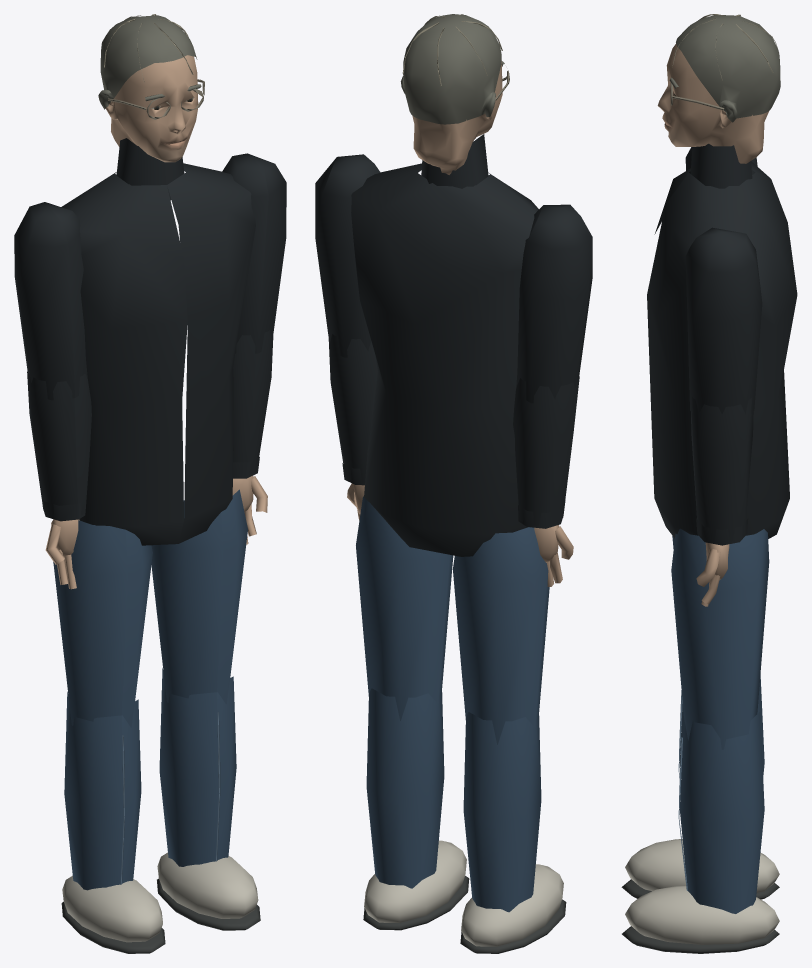
File: steve-jobs-lod.glb
The picture shows the model from 3 angles, left to right: view 1: azimuth 30°, elevation 25°; view 2: azimuth 150°, elevation 25°; view 3: azimuth 270°, elevation 25°; orthographic projection.
Visible parts, largest first — view 1: Torso, TrouserThigh (×2), TrouserCalf (×2), TailoredSleeve (×2), Shoe (×2), LeftForearm, AnatomicalFace, Head, RightForearm, Sole (×2), LeftHand, RightHand; view 2: Torso, TrouserThigh (×2), TrouserCalf (×2), TailoredSleeve (×2), Head, Shoe (×2), LeftForearm, RightForearm, AnatomicalFace, Sole (×2), LeftHand; view 3: Torso, TrouserThigh, TrouserCalf (×2), TailoredSleeve, Shoe (×2), Head, RightForearm, AnatomicalFace, Sole (×2), RightHand.
Part boxes in pixels (bbox=[...]): Torso: bbox=[61, 138, 255, 545]; TrouserThigh (×2): bbox=[53, 489, 247, 727]; TrouserCalf (×2): bbox=[64, 668, 236, 890]; TailoredSleeve (×2): bbox=[14, 153, 286, 400]; Shoe (×2): bbox=[62, 852, 258, 942]; LeftForearm: bbox=[27, 371, 91, 521]; AnatomicalFace: bbox=[105, 55, 198, 162]; Head: bbox=[98, 14, 204, 119]; RightForearm: bbox=[233, 330, 273, 478]; Sole (×2): bbox=[61, 878, 260, 953]; LeftHand: bbox=[45, 519, 79, 589]; RightHand: bbox=[232, 475, 267, 544]; Torso: bbox=[351, 134, 538, 556]; TrouserThigh (×2): bbox=[356, 496, 549, 744]; TrouserCalf (×2): bbox=[366, 688, 541, 912]; TailoredSleeve (×2): bbox=[315, 154, 592, 403]; Head: bbox=[400, 14, 509, 124]; Shoe (×2): bbox=[364, 840, 563, 946]; LeftForearm: bbox=[513, 376, 579, 528]; RightForearm: bbox=[328, 334, 377, 485]; AnatomicalFace: bbox=[412, 61, 502, 174]; Sole (×2): bbox=[363, 876, 566, 953]; LeftHand: bbox=[534, 525, 573, 586]; Torso: bbox=[647, 143, 797, 538]; TrouserThigh: bbox=[671, 528, 769, 749]; TrouserCalf (×2): bbox=[679, 674, 764, 913]; TailoredSleeve: bbox=[685, 227, 762, 414]; Shoe (×2): bbox=[625, 839, 779, 944]; Head: bbox=[669, 14, 780, 122]; RightForearm: bbox=[691, 396, 753, 545]; AnatomicalFace: bbox=[657, 44, 768, 163]; Sole (×2): bbox=[621, 879, 779, 953]; RightHand: bbox=[696, 542, 729, 606].
Bounding box in the file's own units: 0.5433 × 1.76 × 0.311.
